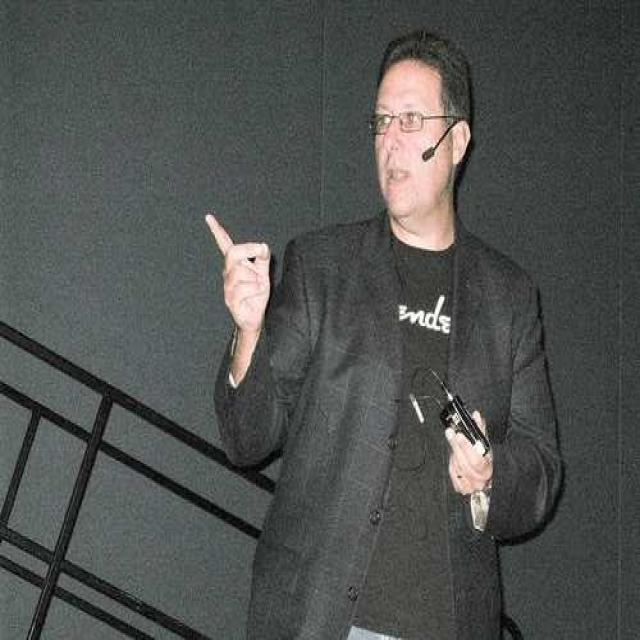microphone: (422, 118, 464, 162)
